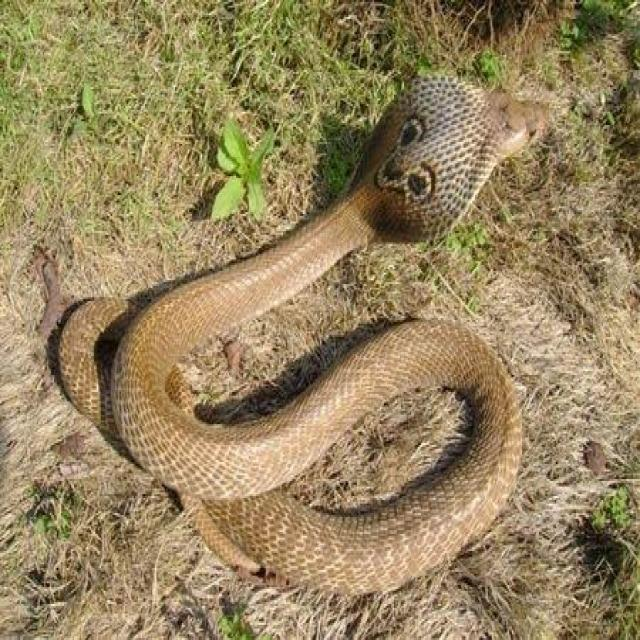Snake: (31, 70, 548, 598)
